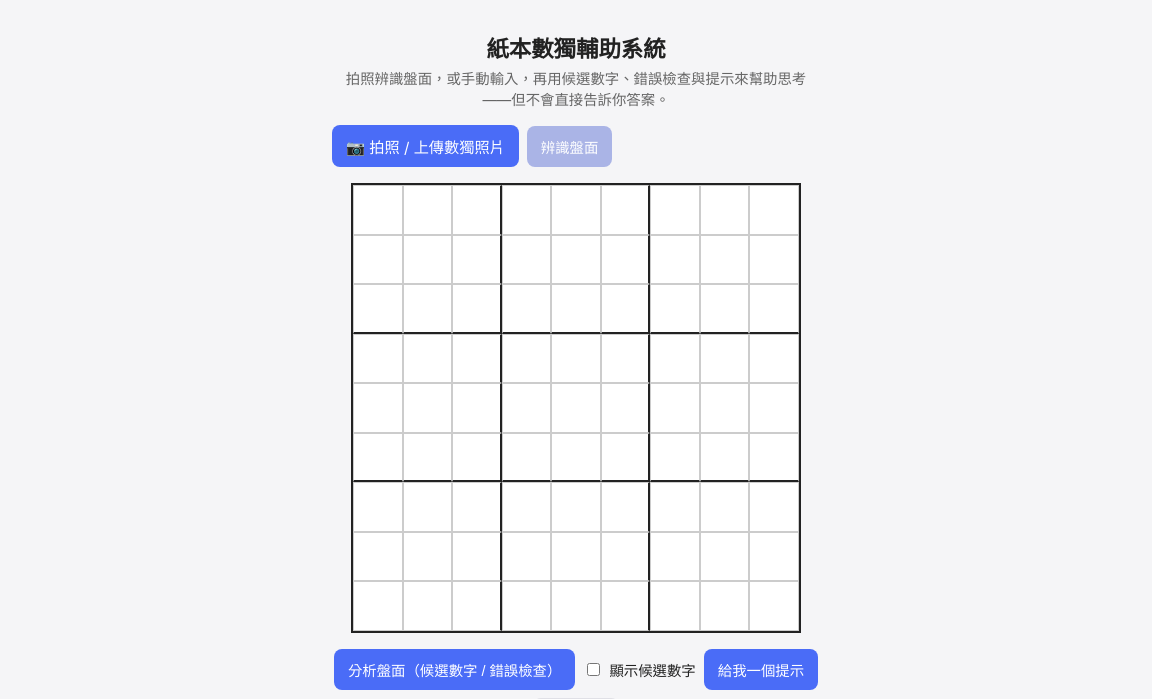
Scenario: App › opens a candidate editor on long press and marks the chosen digit on the board
Step 1. Press the mouse on the 1st element with class "cell" → (378, 210), box [353,185,402,234]
Wait 500 ms
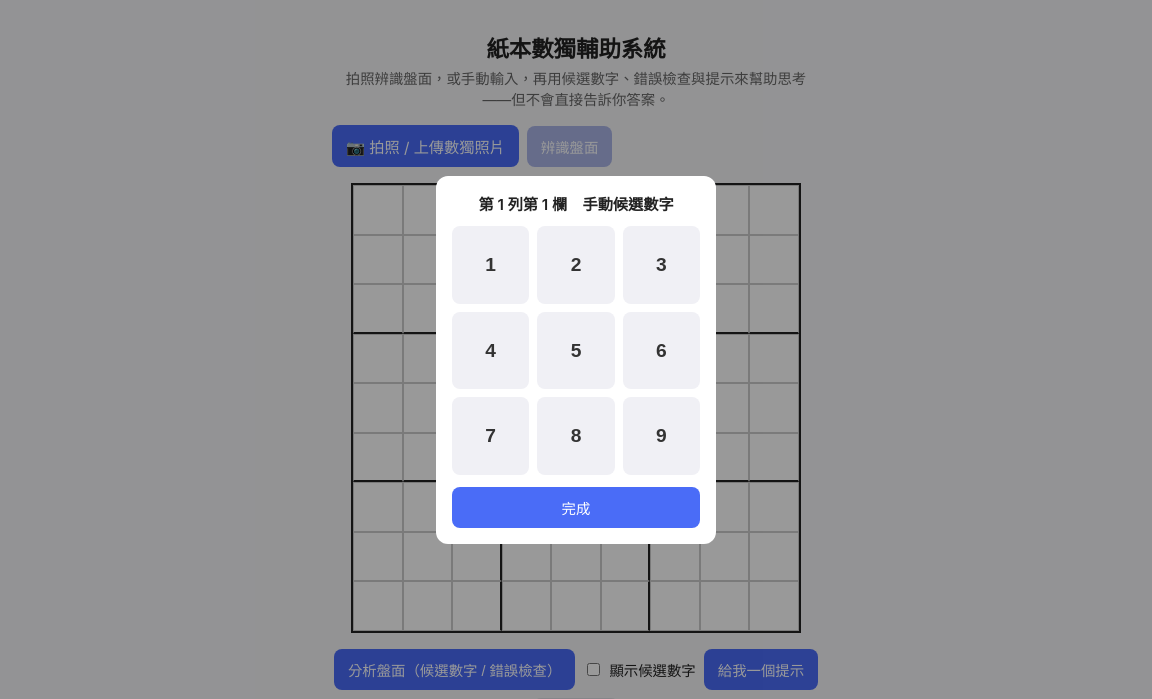
Expected: the text "第 1 列第 1 欄 手動候選數字" is shown, [478,196,674,214]
Step 2. Click the button "5" → (576, 350), box [537,312,615,389]
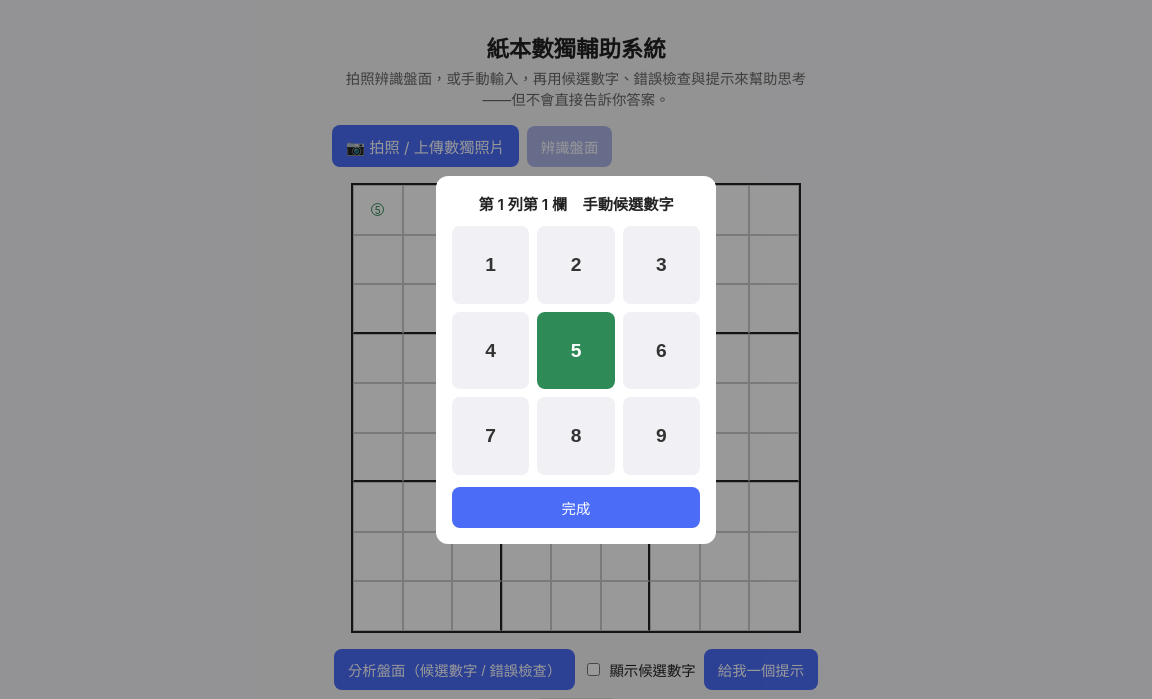
Step 3. Click the button "完成" → (576, 507), box [452,486,700,528]
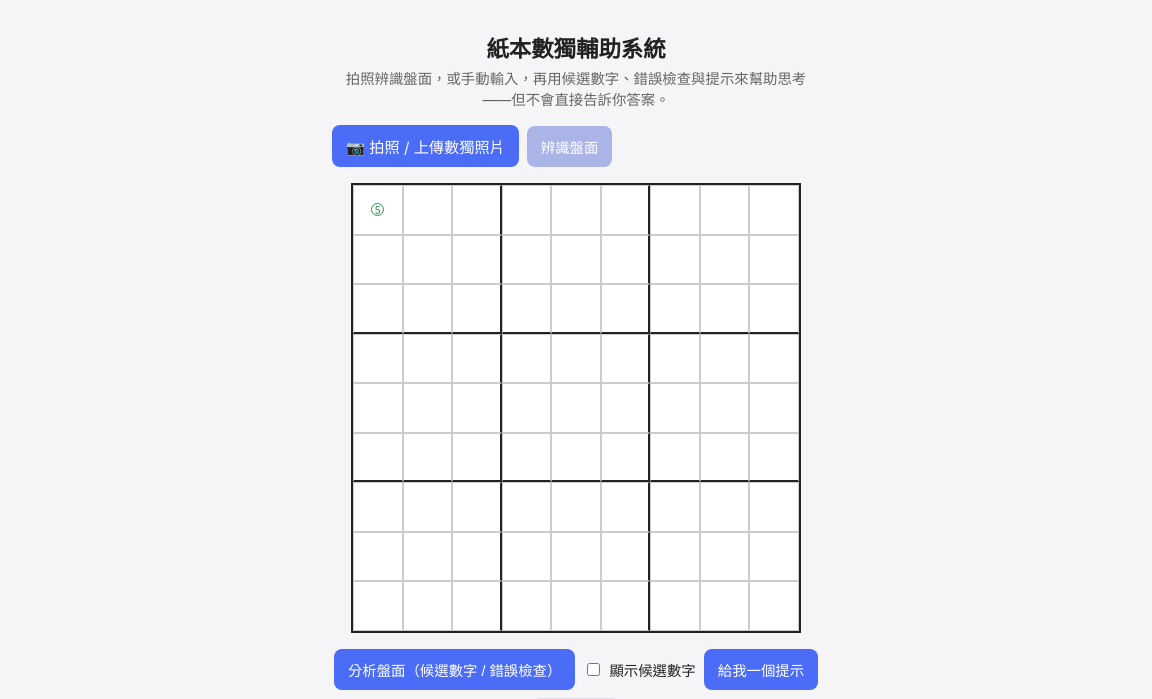
Expected: the text "手動候選數字" is gone
